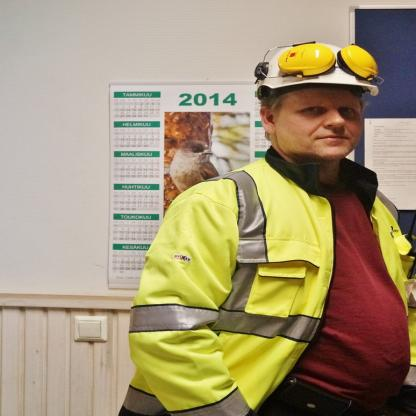Helmet: (255, 40, 385, 140)
